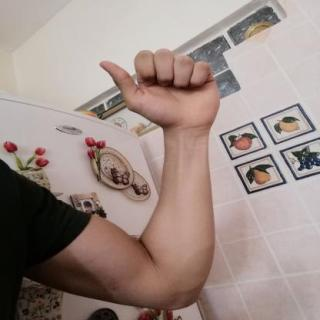DAD: (92, 43, 228, 137)
